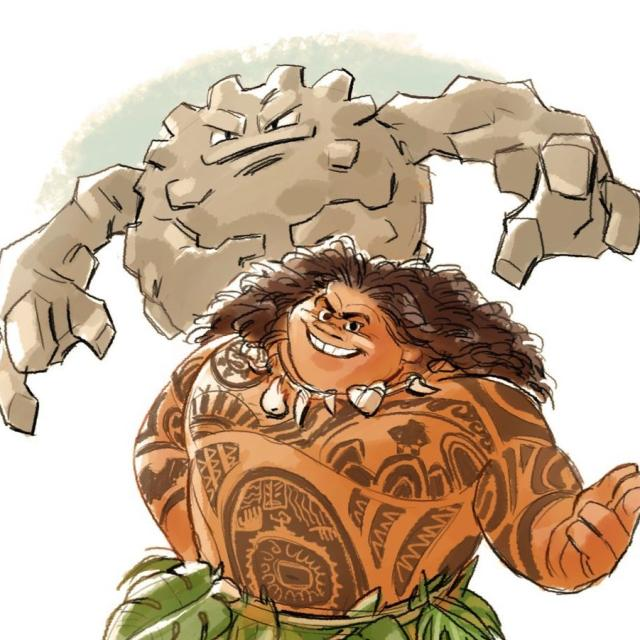Graveler: (0, 67, 640, 280)
